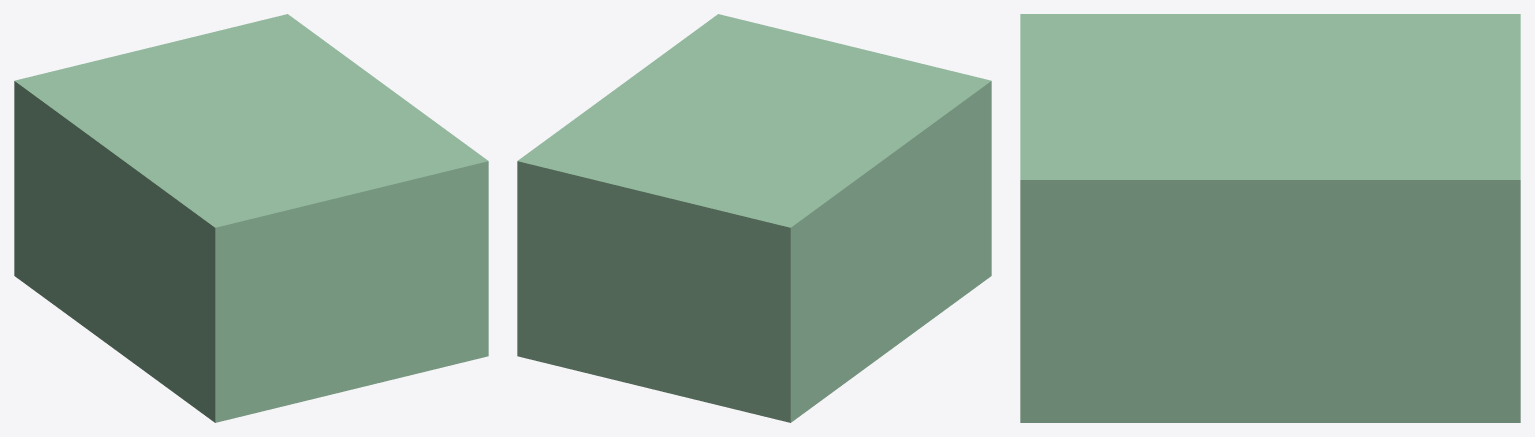
The model's file is tapered_cavity_demo.glb.
3 views of the same model, side by side, from view 1: azimuth 30°, elevation 25°; view 2: azimuth 150°, elevation 25°; view 3: azimuth 270°, elevation 25° (orthographic). The views are drawn at different scales.
Parts seen in each view (by area): view 1: tapered_cutaway; view 2: tapered_cutaway; view 3: tapered_cutaway.
Part boxes in pixels (x1,y1,x2,y2): tapered_cutaway: [14, 14, 488, 422]; tapered_cutaway: [517, 14, 991, 422]; tapered_cutaway: [1020, 14, 1520, 422].
Size of the model in its own units: 22 by 15 by 28.
